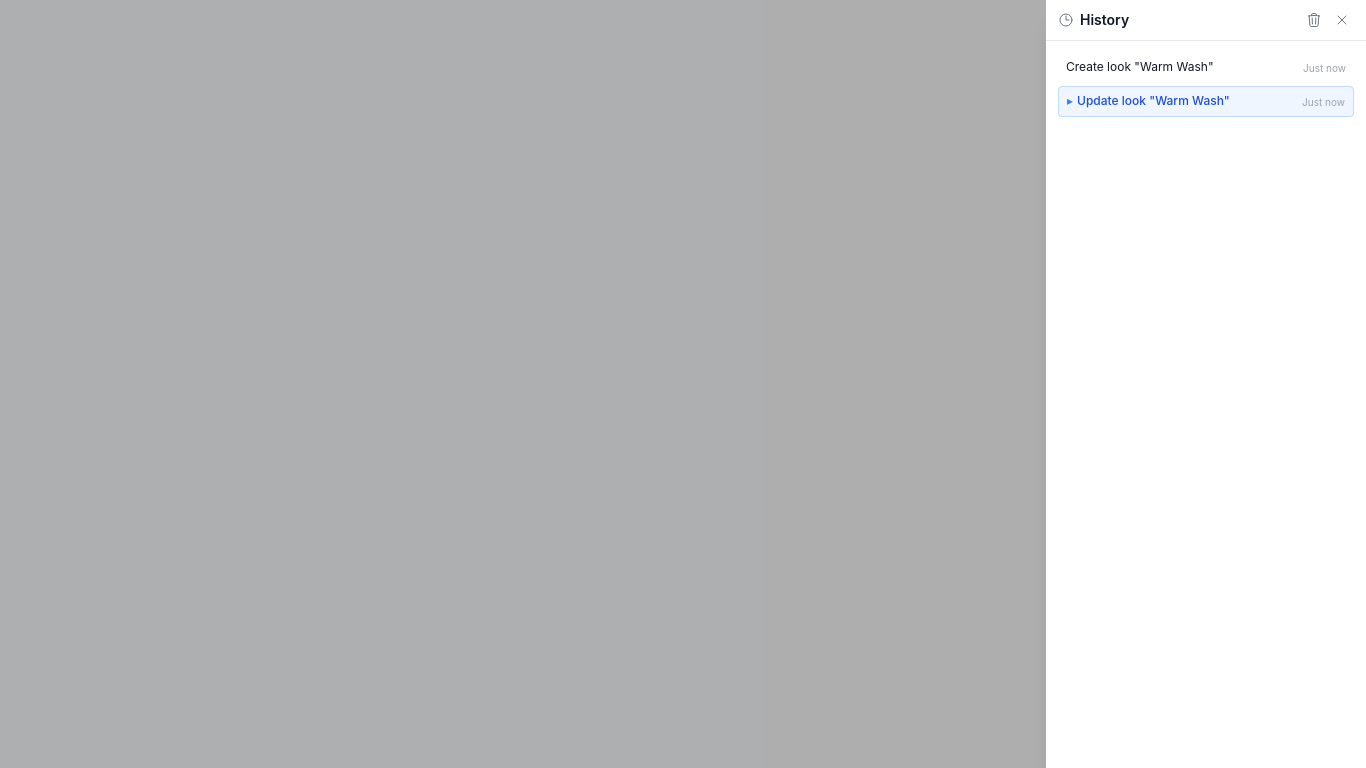
Test: OperationHistoryPanel error handling › displays error toast when jumpToOperation fails
Expected: the text "Create look \"Warm Wash\"" is shown, [1066, 59, 1214, 76]
Click the button "Create look \"Warm Wash\" Just now".
click(1206, 68)  # box [1058, 53, 1354, 82]
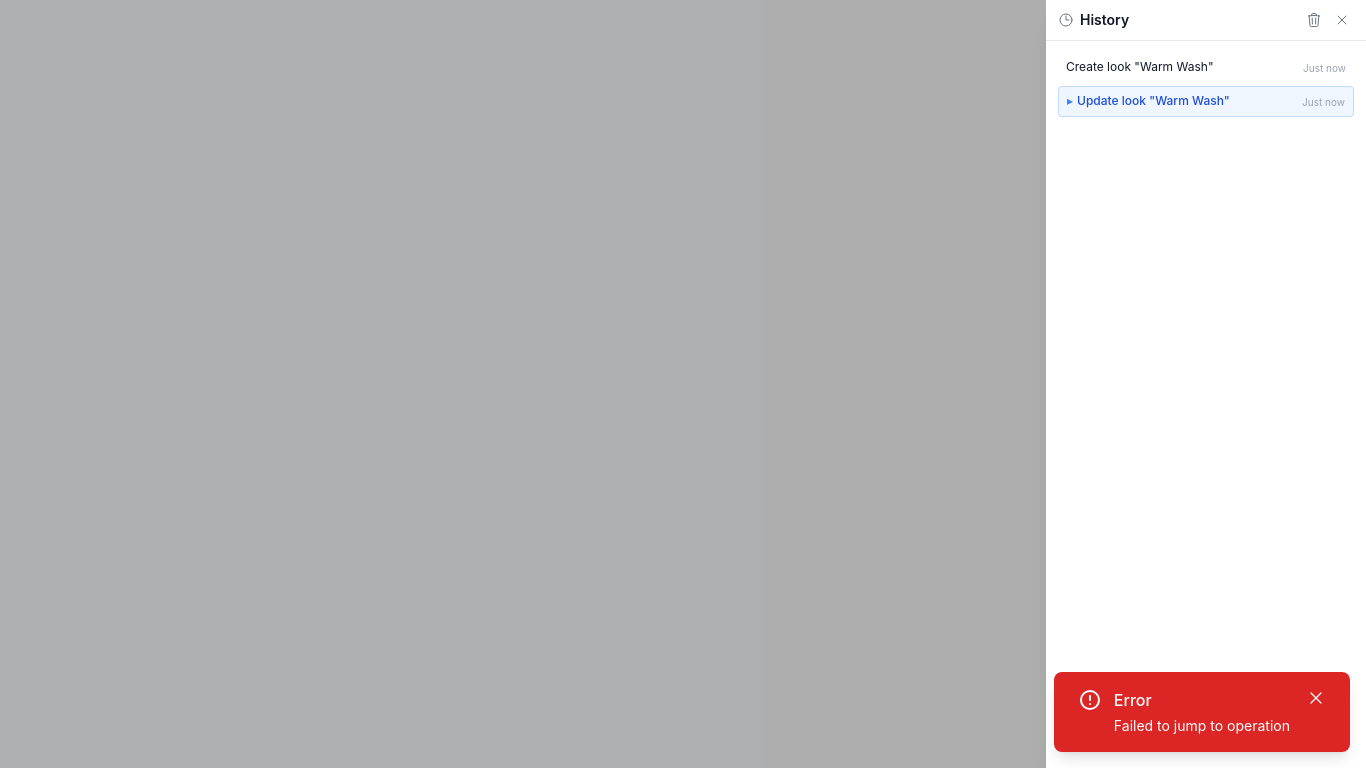
Expected: the heading "Error" is shown, [1114, 690, 1152, 710]
Expected: the text "Failed to jump to operation" is shown, [1114, 716, 1290, 736]
